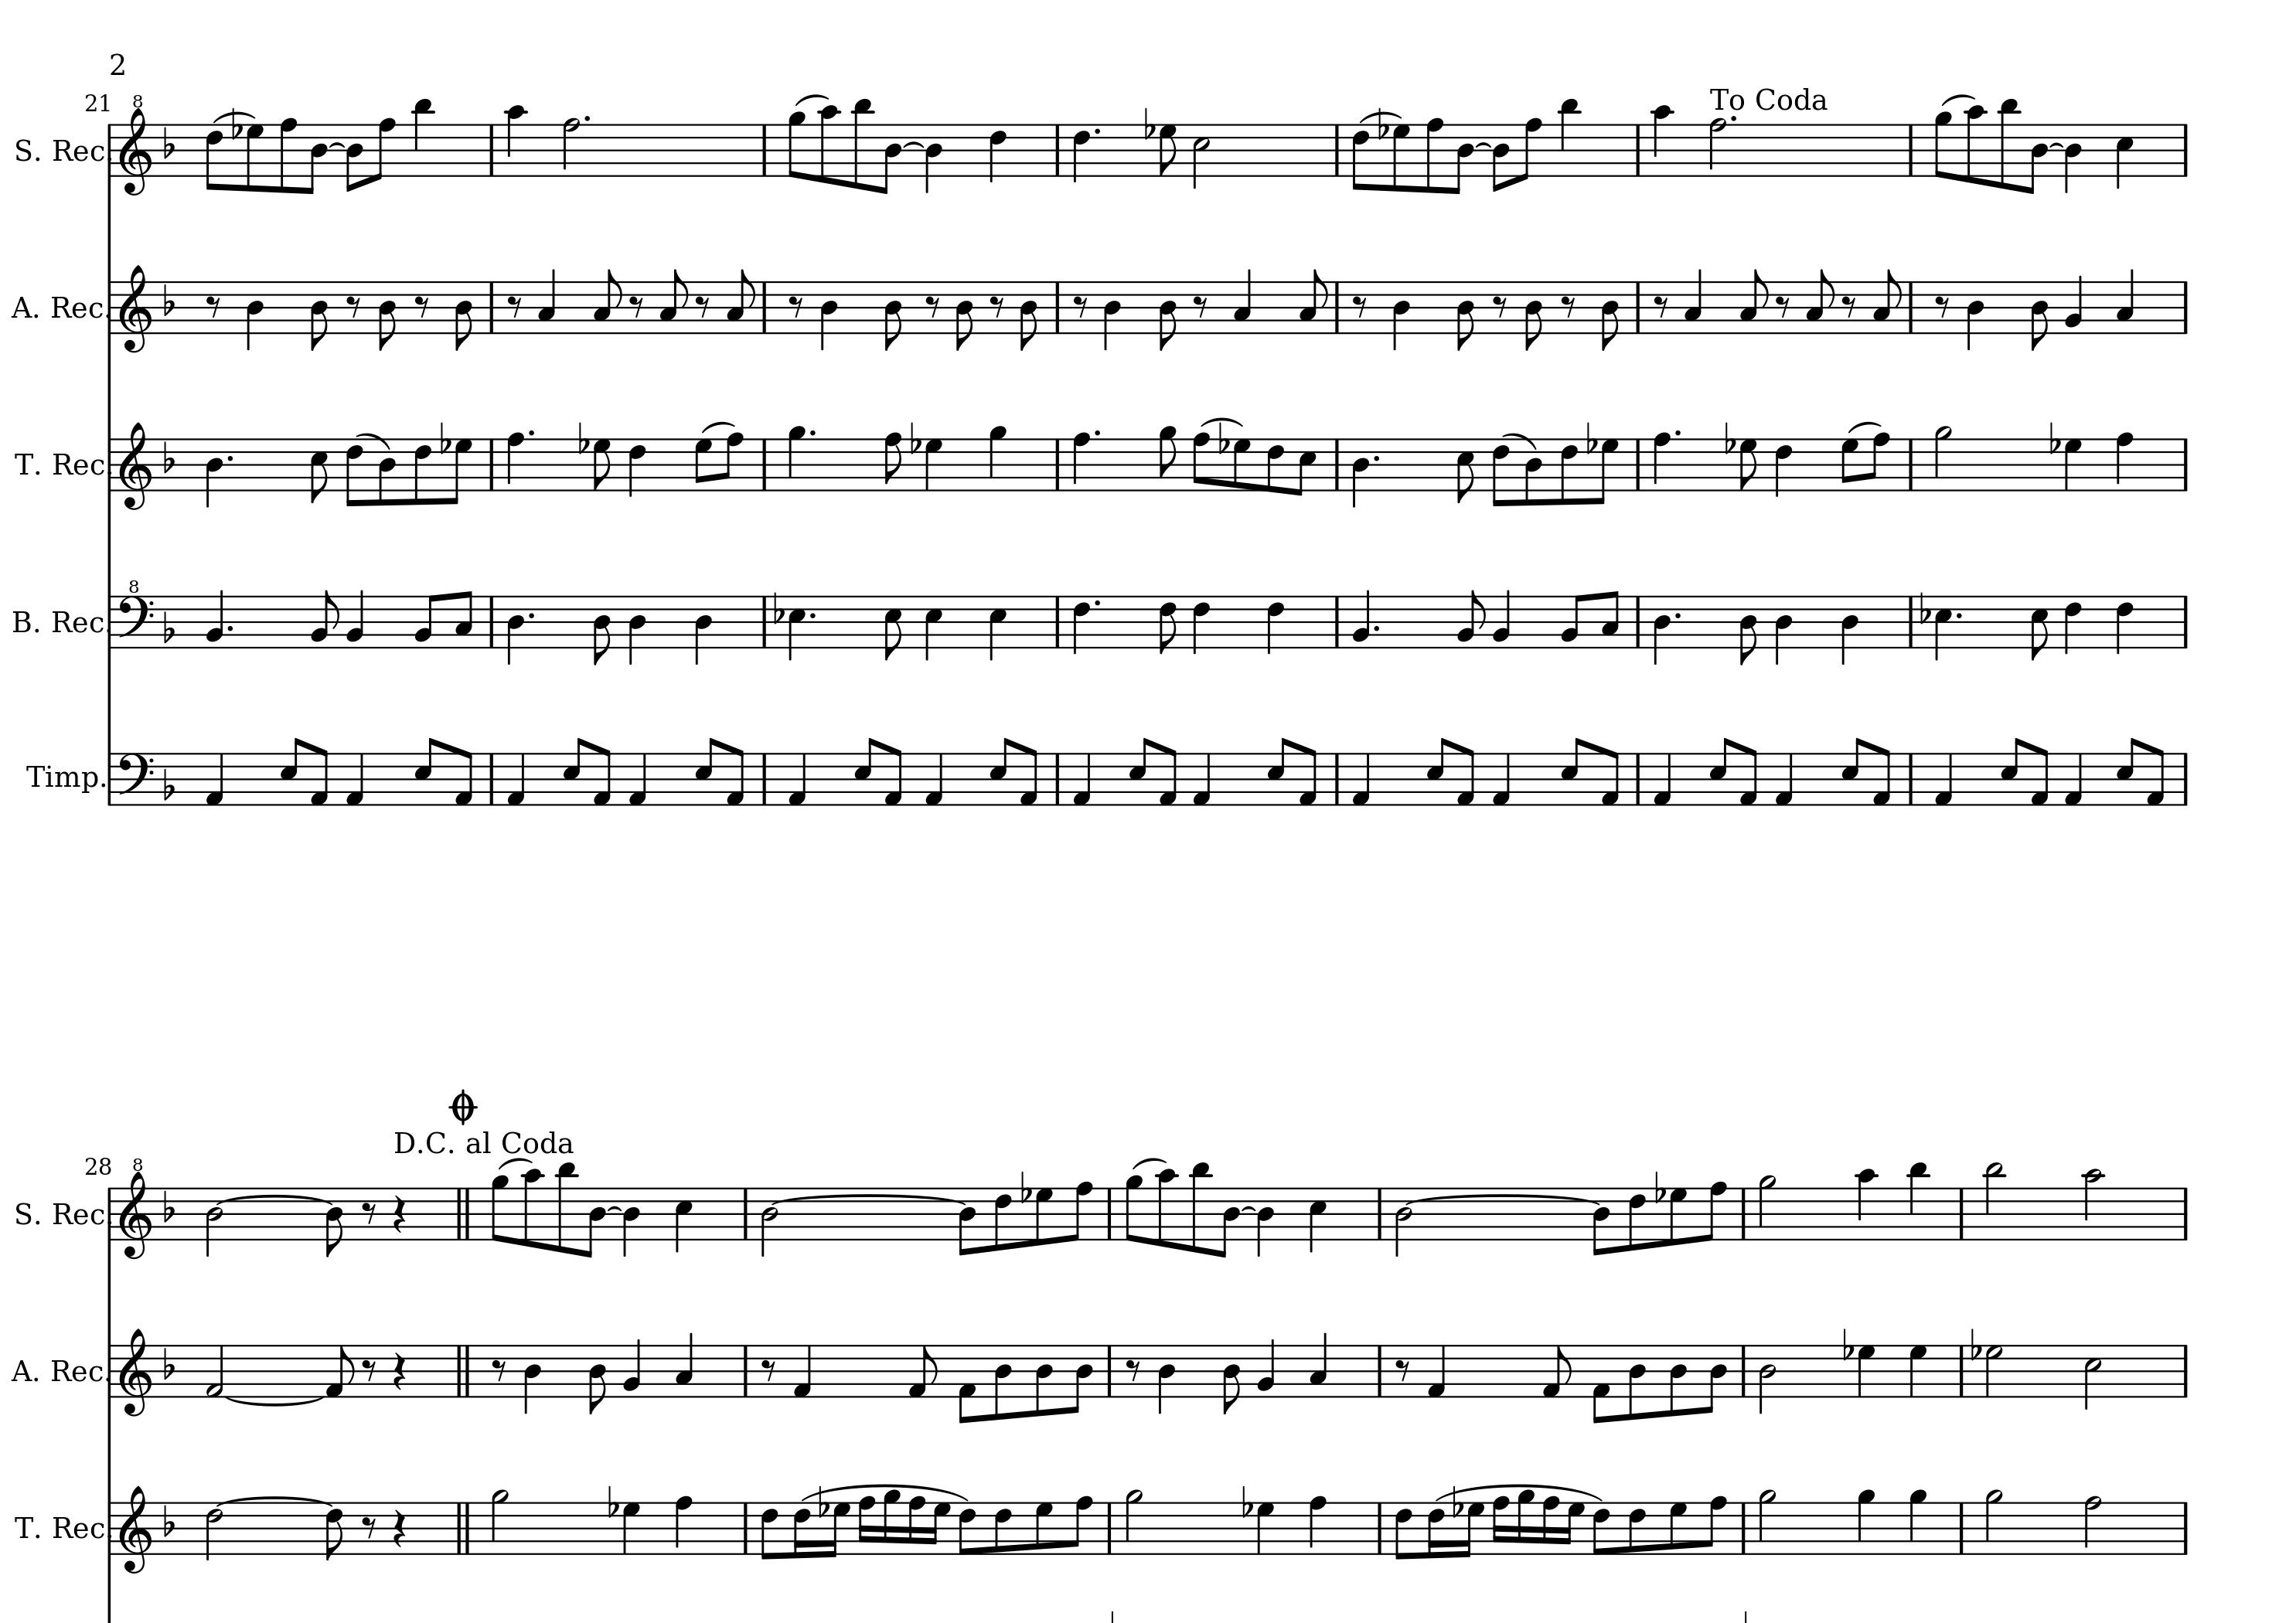1: (98, 91, 111, 112)
16_6: (1393, 1500, 1412, 1562), (1426, 1498, 1446, 1560), (759, 1500, 778, 1560), (792, 1500, 812, 1560)
16_7: (1458, 1500, 1484, 1558), (826, 1500, 850, 1558), (928, 1500, 950, 1554), (1562, 1500, 1585, 1554)
16_8: (857, 1493, 877, 1554), (906, 1493, 926, 1554), (1490, 1493, 1509, 1554), (1541, 1493, 1560, 1554)
16_9: (882, 1488, 901, 1556), (1516, 1488, 1535, 1556)
2: (107, 51, 126, 76), (83, 91, 98, 112), (83, 1154, 97, 1175)
2_1: (204, 1344, 225, 1398)
2_10: (2082, 1166, 2105, 1242)
2_11: (1982, 1161, 2006, 1244)
2_4: (204, 1186, 225, 1259), (759, 1186, 778, 1258), (1393, 1186, 1412, 1258), (1757, 1344, 1776, 1416)
2_5: (2082, 1344, 2103, 1410), (1191, 123, 1210, 190)
2_6: (204, 1500, 225, 1562)
2_7: (1983, 1344, 2003, 1398)
2_8: (1708, 116, 1729, 177), (560, 116, 580, 177), (2083, 1493, 2103, 1554)
2_9: (1757, 1172, 1778, 1242), (1932, 423, 1953, 492), (490, 1488, 509, 1556), (1124, 1488, 1144, 1556), (1757, 1488, 1776, 1554), (1983, 1488, 2003, 1554)
4_1: (204, 752, 225, 806), (344, 752, 365, 806), (627, 752, 648, 806), (922, 752, 943, 806), (1070, 752, 1091, 806), (1490, 752, 1511, 806), (1651, 752, 1672, 806), (1932, 752, 1953, 806), (792, 1344, 813, 1398), (506, 752, 525, 806), (787, 752, 806, 806), (1193, 752, 1212, 806), (1351, 752, 1370, 806), (1774, 752, 1794, 806), (2064, 752, 2083, 806), (1426, 1344, 1446, 1398)
4_10: (1855, 1166, 1880, 1242), (504, 104, 527, 177), (1651, 104, 1674, 177)
4_11: (1906, 1159, 1931, 1242), (413, 97, 434, 177), (1558, 97, 1579, 177)
4_2: (1351, 587, 1372, 650), (2064, 272, 2083, 335), (206, 587, 225, 650), (346, 587, 365, 650), (1491, 587, 1511, 650), (622, 1337, 641, 1398), (1256, 1337, 1275, 1398)
4_3: (1231, 267, 1253, 335), (1683, 267, 1704, 334), (2115, 267, 2134, 335), (675, 1330, 694, 1398), (538, 267, 557, 334), (1309, 1331, 1328, 1398)
4_4: (620, 1186, 641, 1259), (1254, 1186, 1275, 1259), (922, 123, 943, 195), (2062, 123, 2083, 195), (1156, 1344, 1177, 1416), (1103, 279, 1123, 353), (206, 436, 225, 509), (246, 279, 265, 351), (819, 279, 838, 351), (1391, 279, 1411, 351), (1966, 279, 1985, 351), (1351, 437, 1370, 509), (506, 594, 525, 666), (627, 594, 646, 666), (694, 594, 713, 666), (1651, 594, 1671, 666), (1774, 594, 1794, 666), (1839, 594, 1859, 666), (522, 1344, 541, 1416)
4_5: (922, 594, 943, 662), (1932, 594, 1953, 662), (673, 1186, 694, 1254), (1307, 1186, 1328, 1254), (787, 594, 806, 662), (987, 594, 1007, 662), (2115, 123, 2134, 190)
4_6: (987, 123, 1008, 186), (1070, 123, 1091, 186), (1070, 594, 1091, 657), (1265, 594, 1284, 657), (2115, 594, 2134, 657), (627, 436, 646, 497), (1774, 436, 1794, 497), (2062, 594, 2082, 655), (1193, 592, 1210, 655)
4_7: (1855, 1344, 1876, 1398), (1908, 1344, 1929, 1398), (620, 1500, 641, 1554), (1254, 1500, 1275, 1554), (924, 437, 943, 492), (2064, 437, 2083, 492)
4_8: (1307, 1495, 1328, 1556), (1072, 430, 1091, 492), (1651, 430, 1671, 492), (2115, 430, 2134, 492), (673, 1495, 692, 1556), (506, 430, 523, 492)
4_9: (1855, 1488, 1876, 1556), (787, 423, 806, 492), (987, 423, 1007, 492), (1908, 1488, 1927, 1554)
8: (97, 1154, 112, 1177)
8_1: (906, 1344, 940, 1398), (1541, 1344, 1574, 1398), (956, 1344, 977, 1423), (325, 1344, 355, 1398), (1592, 1344, 1611, 1425), (1296, 747, 1318, 806), (1737, 747, 1758, 806), (1599, 748, 1620, 806), (309, 745, 329, 806), (726, 745, 745, 806), (884, 745, 903, 806), (1158, 745, 1177, 806), (1456, 745, 1476, 806), (2029, 745, 2048, 806), (2145, 745, 2164, 806), (453, 747, 473, 806), (592, 747, 611, 806), (1019, 747, 1038, 806), (1871, 747, 1890, 806)
8_10: (819, 104, 841, 186), (522, 1166, 545, 1249), (1156, 1166, 1179, 1249), (1966, 104, 1987, 186)
8_11: (850, 97, 875, 191), (1997, 97, 2022, 191), (555, 1161, 578, 1256), (1189, 1161, 1212, 1256)
8_2: (309, 588, 339, 650), (1456, 588, 1486, 650), (413, 592, 437, 650), (1560, 592, 1585, 650)
8_3: (1804, 267, 1836, 334), (1871, 267, 1903, 334), (726, 267, 755, 335), (1298, 267, 1328, 335), (592, 267, 622, 334), (659, 267, 689, 334), (1739, 267, 1769, 334), (453, 588, 473, 650), (1600, 588, 1620, 650)
8_4: (1066, 1344, 1094, 1414), (1451, 121, 1476, 197), (1216, 1186, 1240, 1259), (304, 123, 329, 195), (878, 123, 903, 195), (1702, 1344, 1727, 1414), (583, 1186, 606, 1259), (2025, 123, 2048, 195), (1158, 279, 1179, 353), (1599, 279, 1620, 353), (1033, 1344, 1054, 1417), (1667, 1344, 1688, 1417), (2029, 279, 2050, 351), (323, 1186, 344, 1258), (587, 1344, 608, 1416), (1221, 1344, 1242, 1416), (993, 1344, 1012, 1421), (1627, 1344, 1646, 1421), (1490, 123, 1511, 193), (1523, 436, 1544, 506), (453, 279, 473, 353), (884, 279, 903, 353), (954, 279, 973, 353), (1019, 279, 1038, 353), (1737, 594, 1757, 667), (309, 279, 329, 351), (378, 279, 397, 351), (1456, 279, 1476, 351), (592, 594, 611, 666), (957, 1186, 977, 1258), (378, 436, 397, 506), (1592, 1186, 1611, 1256), (344, 123, 364, 191), (1525, 279, 1542, 351)
8_5: (413, 734, 439, 806), (279, 734, 304, 806), (852, 734, 877, 806), (1708, 734, 1732, 806), (2115, 734, 2140, 806), (562, 736, 587, 806), (987, 736, 1012, 806), (1128, 736, 1152, 806), (1425, 736, 1449, 806), (1560, 736, 1585, 806), (1839, 736, 1864, 806), (1999, 736, 2024, 806), (694, 736, 717, 806), (1267, 736, 1289, 806), (1293, 436, 1318, 497), (882, 594, 903, 662), (2029, 594, 2048, 662), (309, 436, 329, 502), (1456, 436, 1476, 502)
8_6: (344, 436, 364, 506), (204, 123, 223, 191), (1351, 123, 1370, 191), (413, 437, 432, 506), (1558, 437, 1578, 506), (1158, 594, 1179, 655), (323, 1500, 344, 1562), (993, 1186, 1012, 1252), (1627, 1186, 1646, 1251), (1491, 436, 1509, 506), (1265, 436, 1284, 494), (957, 1500, 977, 1554), (993, 1500, 1012, 1554), (1592, 1500, 1611, 1554), (1627, 1500, 1646, 1554)
8_7: (446, 437, 473, 504), (1593, 437, 1620, 504), (244, 123, 265, 193), (1391, 123, 1411, 193), (1033, 1186, 1052, 1247), (1231, 436, 1251, 492), (1158, 123, 1177, 177), (1839, 437, 1859, 492), (1033, 1500, 1052, 1554), (1667, 1500, 1686, 1554), (1669, 1186, 1686, 1245), (592, 437, 611, 490), (1737, 437, 1757, 490), (694, 437, 711, 490)
8_8: (1068, 1179, 1094, 1244), (1068, 1493, 1094, 1556), (278, 116, 299, 193), (372, 116, 397, 181), (1702, 1179, 1727, 1242), (1702, 1495, 1727, 1556), (1425, 116, 1444, 193), (1520, 116, 1542, 181), (720, 430, 743, 492), (1867, 430, 1890, 492), (884, 430, 903, 492), (1191, 430, 1210, 492)
8_9: (1158, 425, 1179, 492), (787, 109, 806, 181), (1934, 111, 1953, 181), (490, 1173, 509, 1244), (1124, 1173, 1144, 1244)
Coda: (448, 1087, 478, 1124)
Double_barline: (453, 1500, 474, 1553), (453, 1344, 473, 1396), (453, 1186, 471, 1240)
Fclef: (116, 750, 155, 806)
Flat: (162, 437, 176, 474), (437, 418, 451, 455), (1216, 418, 1230, 455), (1585, 418, 1599, 455), (162, 1344, 176, 1381), (162, 1502, 176, 1539), (162, 125, 176, 160), (1375, 107, 1390, 142), (908, 420, 922, 455), (162, 766, 176, 801), (162, 1187, 176, 1223), (1238, 1482, 1253, 1518), (228, 107, 242, 141), (2047, 420, 2061, 453), (771, 590, 785, 624), (1019, 1168, 1031, 1205), (1142, 105, 1154, 141), (162, 281, 174, 316), (576, 420, 588, 455), (1723, 420, 1736, 455), (162, 610, 174, 645), (1653, 1168, 1665, 1203), (1841, 1326, 1853, 1361), (1969, 1326, 1982, 1361), (817, 1484, 829, 1519), (1451, 1484, 1463, 1519), (1918, 590, 1931, 624), (606, 1484, 618, 1518)
Gclef: (119, 263, 155, 355), (118, 1326, 153, 1417), (119, 422, 153, 511), (118, 1484, 151, 1574)
High_Fclef: (116, 578, 153, 648)
High_Gclef: (118, 91, 153, 195), (118, 1159, 151, 1259)
Rec: (49, 293, 104, 320), (49, 137, 107, 162), (51, 451, 107, 476), (51, 610, 105, 634), (51, 1200, 105, 1224), (49, 1358, 104, 1382), (51, 1514, 105, 1539)
Rests4: (392, 1349, 408, 1391), (390, 1507, 406, 1549), (392, 1193, 406, 1233)
Rests8: (1932, 293, 1952, 320), (787, 293, 805, 320), (1072, 293, 1089, 320), (1191, 293, 1209, 320), (1351, 293, 1368, 320), (413, 293, 430, 318), (506, 293, 523, 318), (627, 293, 645, 318), (924, 293, 942, 318), (987, 293, 1005, 318), (1560, 293, 1578, 318), (1653, 293, 1671, 318), (490, 1358, 508, 1382), (1124, 1358, 1142, 1382), (1393, 1358, 1411, 1382), (360, 1200, 376, 1226), (206, 293, 221, 318), (346, 293, 362, 318), (694, 293, 710, 318), (1491, 293, 1507, 318), (1774, 293, 1790, 318), (1841, 293, 1857, 318), (360, 1358, 376, 1382), (761, 1358, 776, 1382), (360, 1514, 376, 1539)
Single_barline: (1372, 1500, 1388, 1554), (104, 123, 119, 176), (2177, 123, 2192, 176), (1630, 123, 1646, 176), (1328, 437, 1344, 490), (1903, 752, 1918, 804), (2177, 752, 2192, 804), (2177, 1187, 2192, 1240), (738, 1500, 754, 1553), (1736, 1500, 1751, 1553), (483, 123, 499, 174), (1903, 123, 1918, 174), (483, 754, 499, 804), (755, 754, 771, 804), (1328, 754, 1344, 804), (1953, 1187, 1969, 1238), (1953, 1345, 1969, 1396), (2177, 1345, 2192, 1396), (1953, 1502, 1969, 1553), (2177, 1502, 2192, 1553), (104, 1186, 118, 1240), (1737, 1186, 1751, 1240), (104, 1500, 118, 1554), (757, 123, 771, 176), (1330, 123, 1344, 176), (105, 437, 119, 490), (487, 437, 501, 490), (2178, 437, 2192, 490), (1051, 437, 1065, 490), (2178, 594, 2192, 646), (105, 595, 119, 648), (1630, 752, 1644, 804), (740, 1187, 754, 1240), (1372, 1187, 1386, 1240), (1736, 1344, 1750, 1396), (1051, 123, 1065, 174), (1328, 281, 1342, 332), (1903, 281, 1917, 332), (2178, 281, 2192, 332), (1632, 437, 1646, 488), (757, 437, 771, 488), (1903, 437, 1917, 488), (485, 595, 499, 646), (757, 595, 771, 646), (1330, 595, 1344, 646), (1630, 595, 1644, 646), (1903, 595, 1917, 646), (1051, 595, 1065, 646), (104, 754, 118, 804), (1051, 754, 1065, 804), (738, 1345, 752, 1396), (1372, 1345, 1386, 1396), (755, 281, 769, 330), (104, 1344, 116, 1398), (105, 281, 118, 334), (1103, 1500, 1116, 1553), (485, 281, 497, 332), (1051, 281, 1063, 332), (1632, 281, 1644, 332), (1103, 1187, 1116, 1238), (1103, 1345, 1116, 1396)
Slur: (1400, 1193, 1600, 1208), (773, 1191, 973, 1201), (213, 1191, 336, 1205), (216, 1495, 336, 1507), (223, 1396, 327, 1405), (1500, 432, 1539, 451), (213, 107, 256, 123), (1358, 107, 1402, 123), (355, 432, 392, 450), (495, 1156, 536, 1170), (792, 91, 831, 105), (1200, 416, 1244, 429), (1939, 91, 1976, 105), (1131, 1156, 1168, 1170), (1848, 418, 1881, 432), (701, 420, 736, 432), (1240, 1205, 1258, 1212), (903, 142, 926, 148), (606, 1205, 622, 1212), (329, 142, 346, 148), (1474, 142, 1491, 148)
Timp: (18, 761, 98, 797)
ToCoda: (1708, 84, 1829, 111)
dot: (581, 112, 592, 123), (1729, 112, 1739, 123), (525, 427, 536, 437), (806, 427, 817, 437), (1091, 427, 1101, 437), (1672, 427, 1683, 437), (1370, 453, 1381, 464), (1091, 597, 1101, 608), (806, 610, 817, 620), (1953, 610, 1964, 620), (1093, 125, 1101, 135), (225, 453, 235, 462), (525, 611, 536, 620), (1672, 611, 1683, 620), (225, 624, 234, 632), (1372, 624, 1381, 632)
